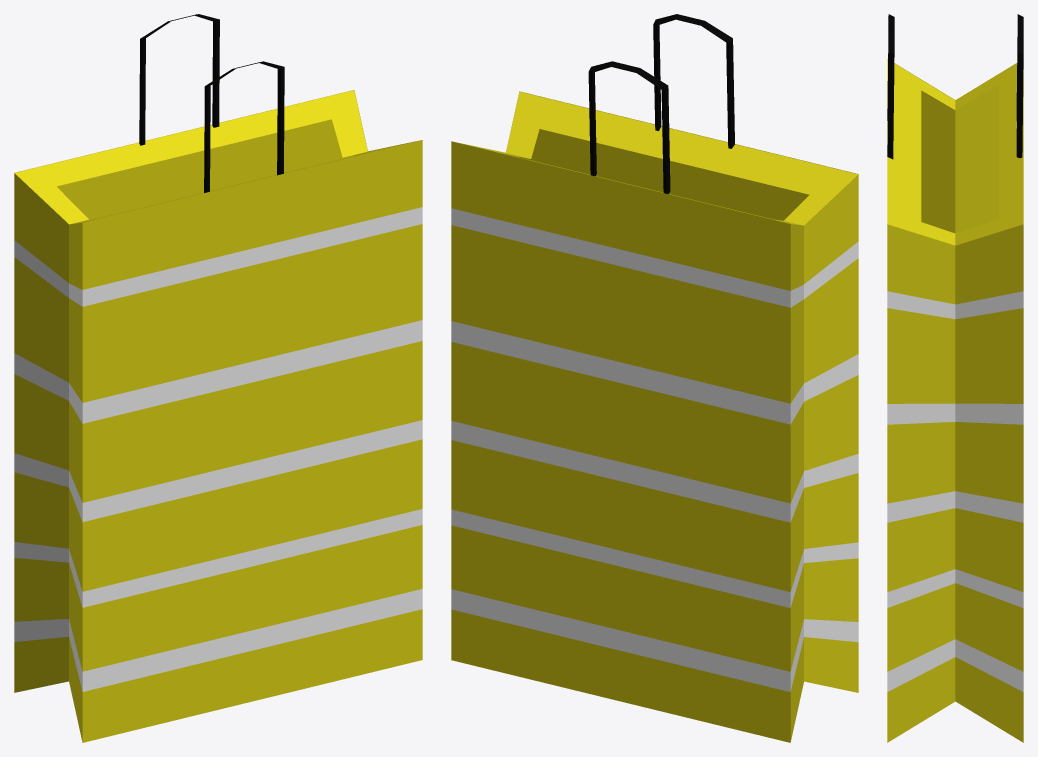
File: ShoppingBag_3.fbx
3 views of the same model, side by side, from view 1: azimuth 30°, elevation 25°; view 2: azimuth 150°, elevation 25°; view 3: azimuth 270°, elevation 25° (orthographic).
Visible parts, largest first — view 1: Cube; view 2: Cube; view 3: Cube.
Boxes of the visible parts, left/top/right/bottom form: Cube: left=14, top=14, right=422, bottom=742; Cube: left=451, top=14, right=858, bottom=742; Cube: left=887, top=14, right=1023, bottom=742.
Bounding box in the file's own units: 200 × 358 × 69.67.
